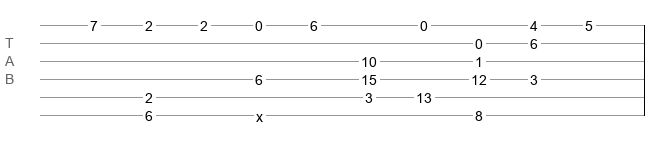0: (255, 18, 263, 28), (420, 18, 428, 28), (475, 36, 483, 46)
1: (475, 54, 483, 64)
10: (361, 54, 377, 64)
12: (471, 72, 487, 82)
13: (416, 90, 432, 100)
15: (361, 72, 377, 82)
2: (145, 90, 153, 100), (145, 18, 153, 28), (200, 18, 208, 28)
3: (365, 90, 373, 100), (530, 72, 538, 82)
4: (530, 18, 538, 28)
5: (585, 18, 593, 28)
6: (145, 108, 153, 118), (255, 72, 263, 82), (310, 18, 318, 28), (530, 36, 538, 46)
7: (90, 18, 98, 28)
8: (475, 108, 483, 118)
x: (256, 109, 263, 117)
